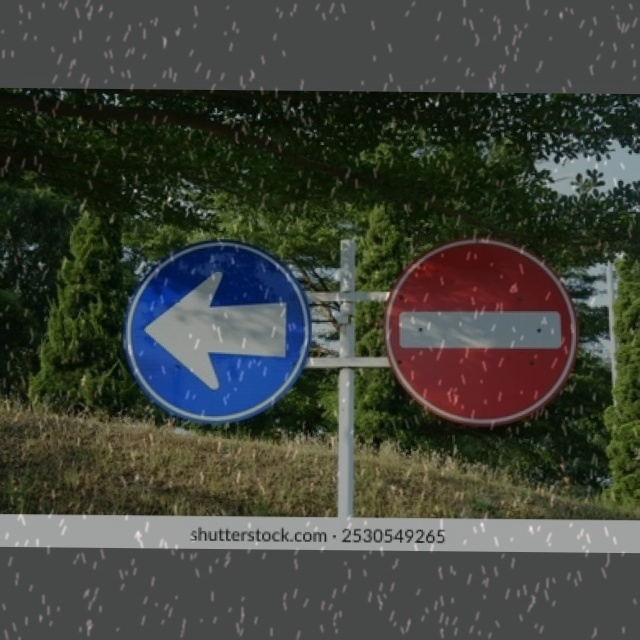Compulsory_Turn_Left: (121, 238, 311, 422)
